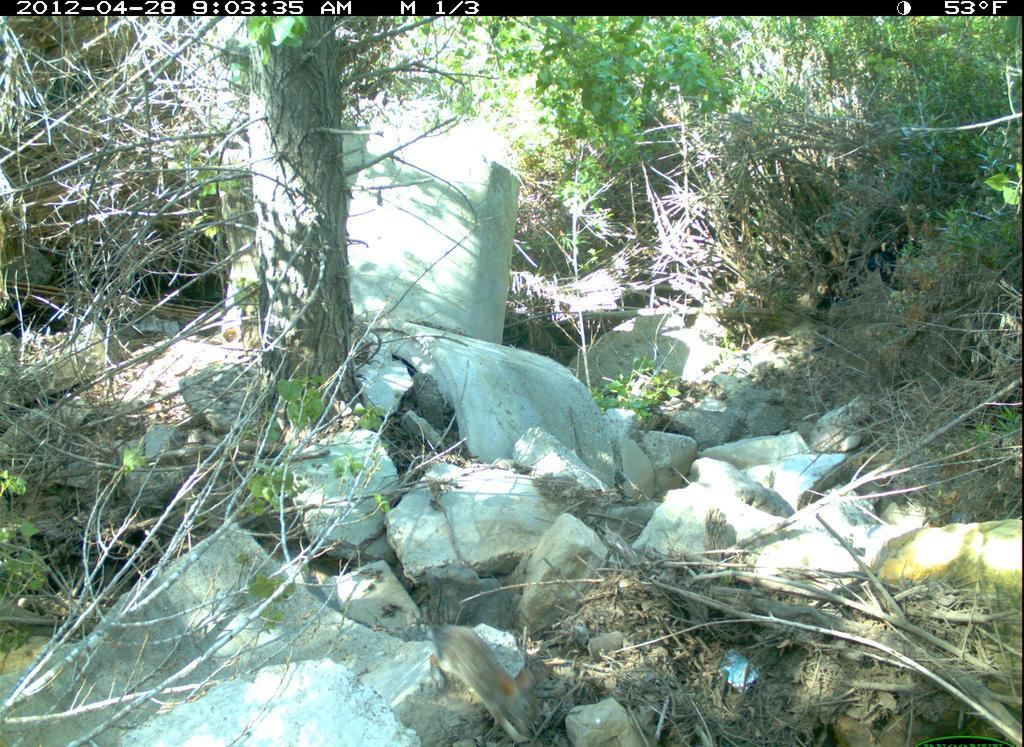rabbit: (418, 611, 554, 747)
